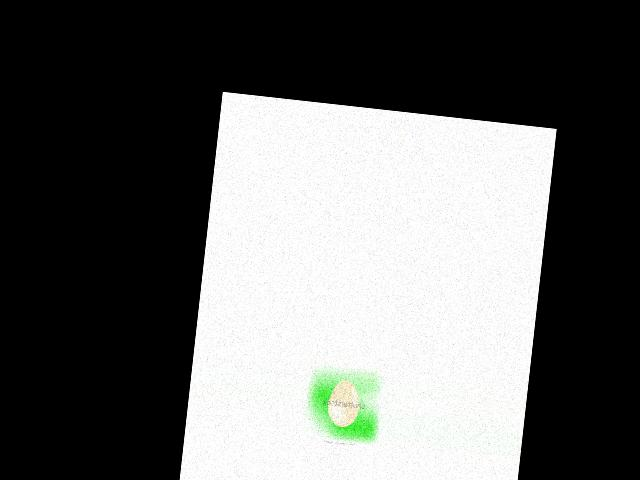egg: (325, 379, 361, 428)
